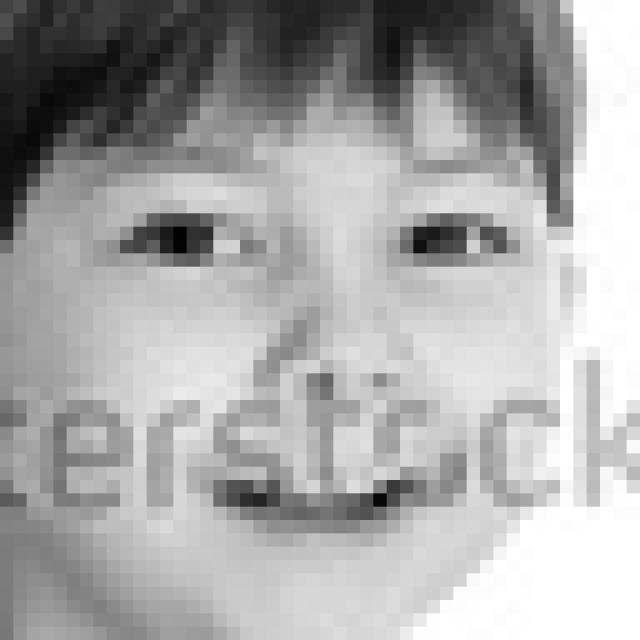happy: (93, 139, 536, 562)
